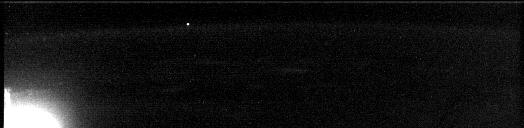positive: (3, 85, 13, 107)
